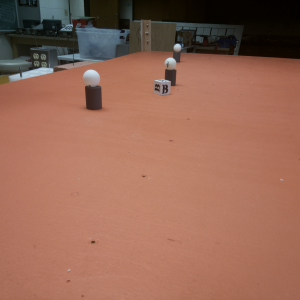blockB: (152, 79, 173, 96)
corner: (138, 18, 153, 51)
obstacle: (82, 69, 105, 111), (164, 57, 179, 78), (171, 42, 183, 57)
